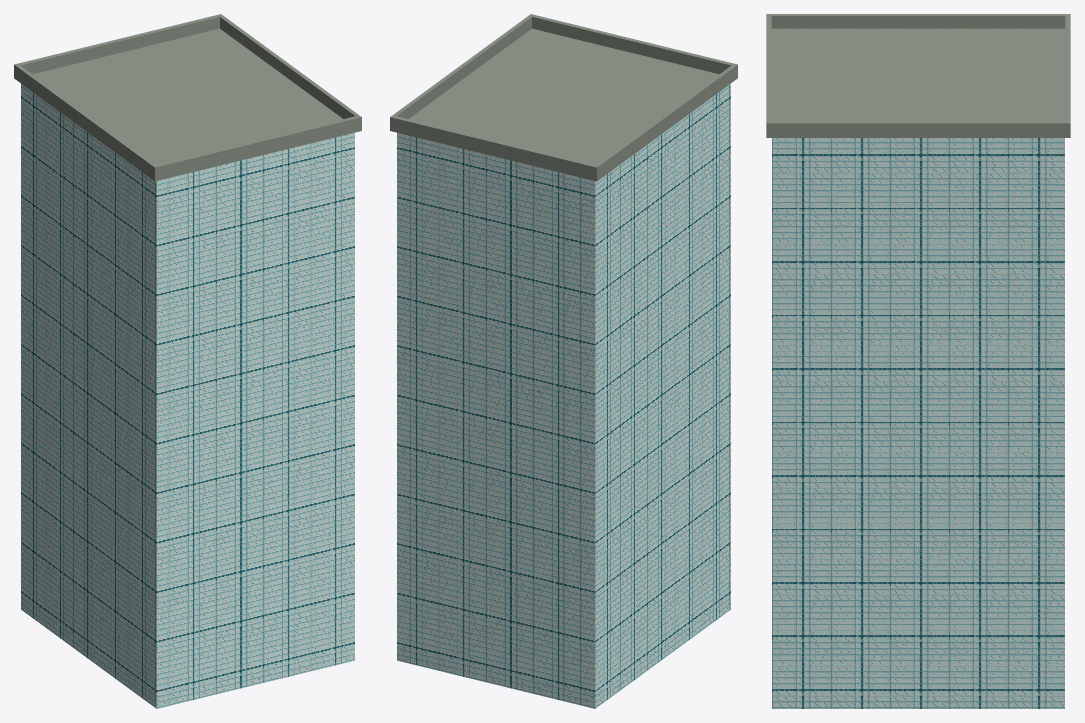
File: BGN_WHITE BUILD.fbx
3 renders of one model, left to right at view 1: azimuth 30°, elevation 25°; view 2: azimuth 150°, elevation 25°; view 3: azimuth 270°, elevation 25°, orthographic. The views are drawn at different scales.
Parts seen in each view (by area): view 1: BGN_WHITE_BUILD; view 2: BGN_WHITE_BUILD; view 3: BGN_WHITE_BUILD.
Part boxes in pixels (x1,y1,x2,y2): BGN_WHITE_BUILD: [14, 14, 361, 708]; BGN_WHITE_BUILD: [390, 14, 737, 708]; BGN_WHITE_BUILD: [766, 14, 1070, 708].
Size of the model in its own units: 3502 by 8798 by 4129.
2 materials, 2 textured.
